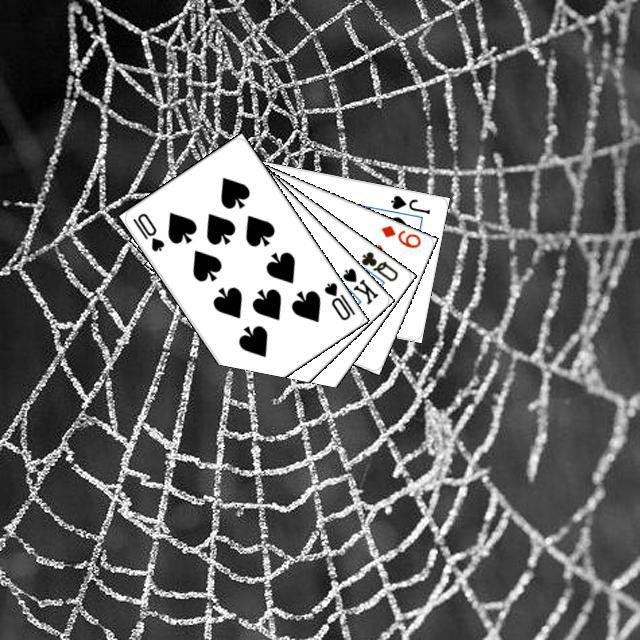10s: (319, 277, 357, 322), (128, 208, 166, 253)
9d: (376, 220, 423, 250)
Js: (386, 190, 432, 216)
Ks: (337, 263, 380, 307)
Qc: (348, 246, 400, 287)
